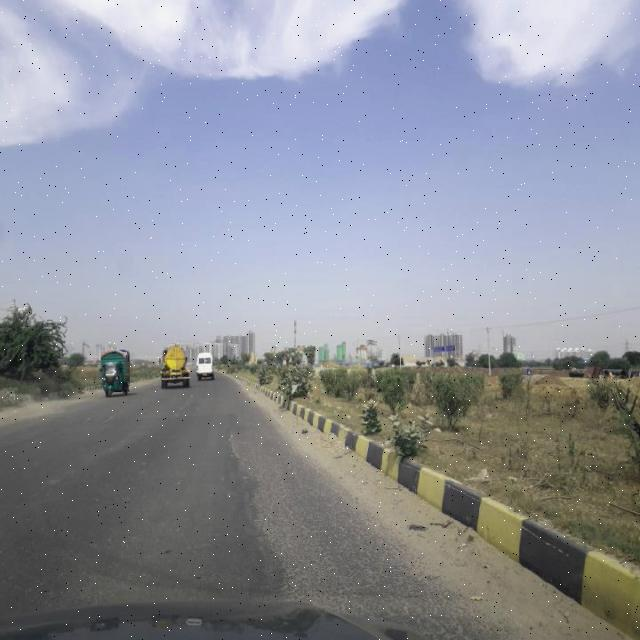D20: (220, 421, 468, 628)
